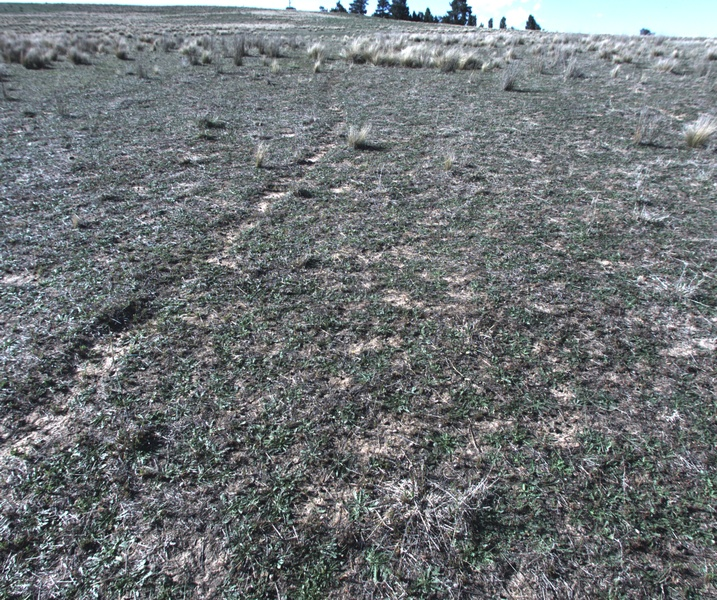st: (684, 116, 717, 151), (338, 127, 378, 153), (26, 47, 51, 75), (372, 46, 397, 72), (404, 46, 431, 69), (303, 42, 327, 66), (341, 39, 366, 62), (251, 136, 271, 164), (66, 45, 87, 67), (172, 40, 199, 57), (656, 54, 680, 73), (454, 46, 470, 71), (477, 56, 498, 72), (607, 64, 620, 83), (198, 47, 212, 63), (114, 44, 124, 60), (312, 60, 320, 71)
